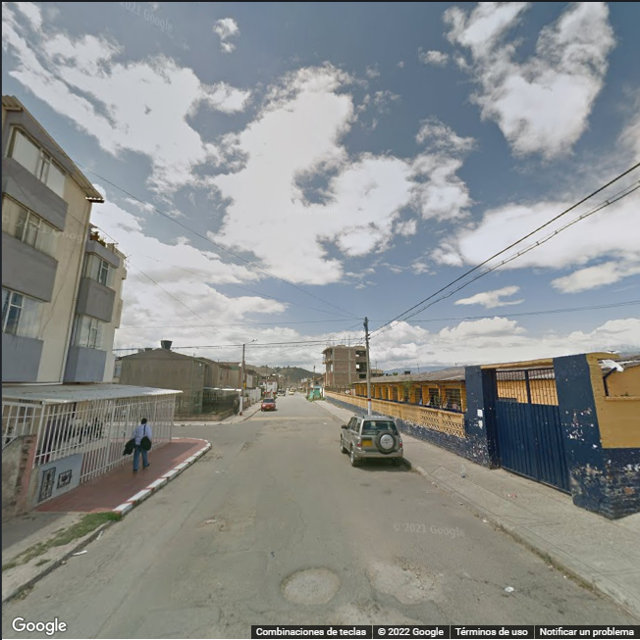D00: (448, 568, 527, 607)
D40: (364, 556, 448, 601), (190, 510, 232, 535)
